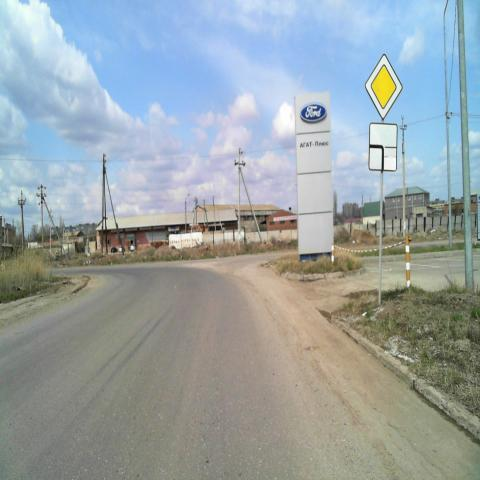8_13: (368, 120, 398, 173)
